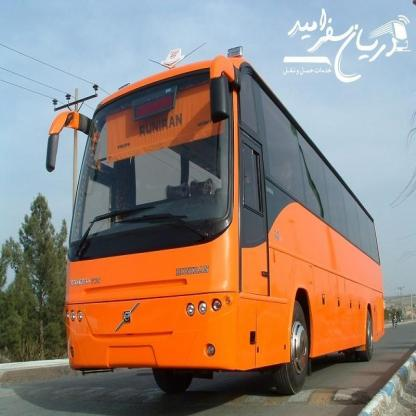Bus: (42, 68, 391, 402)
